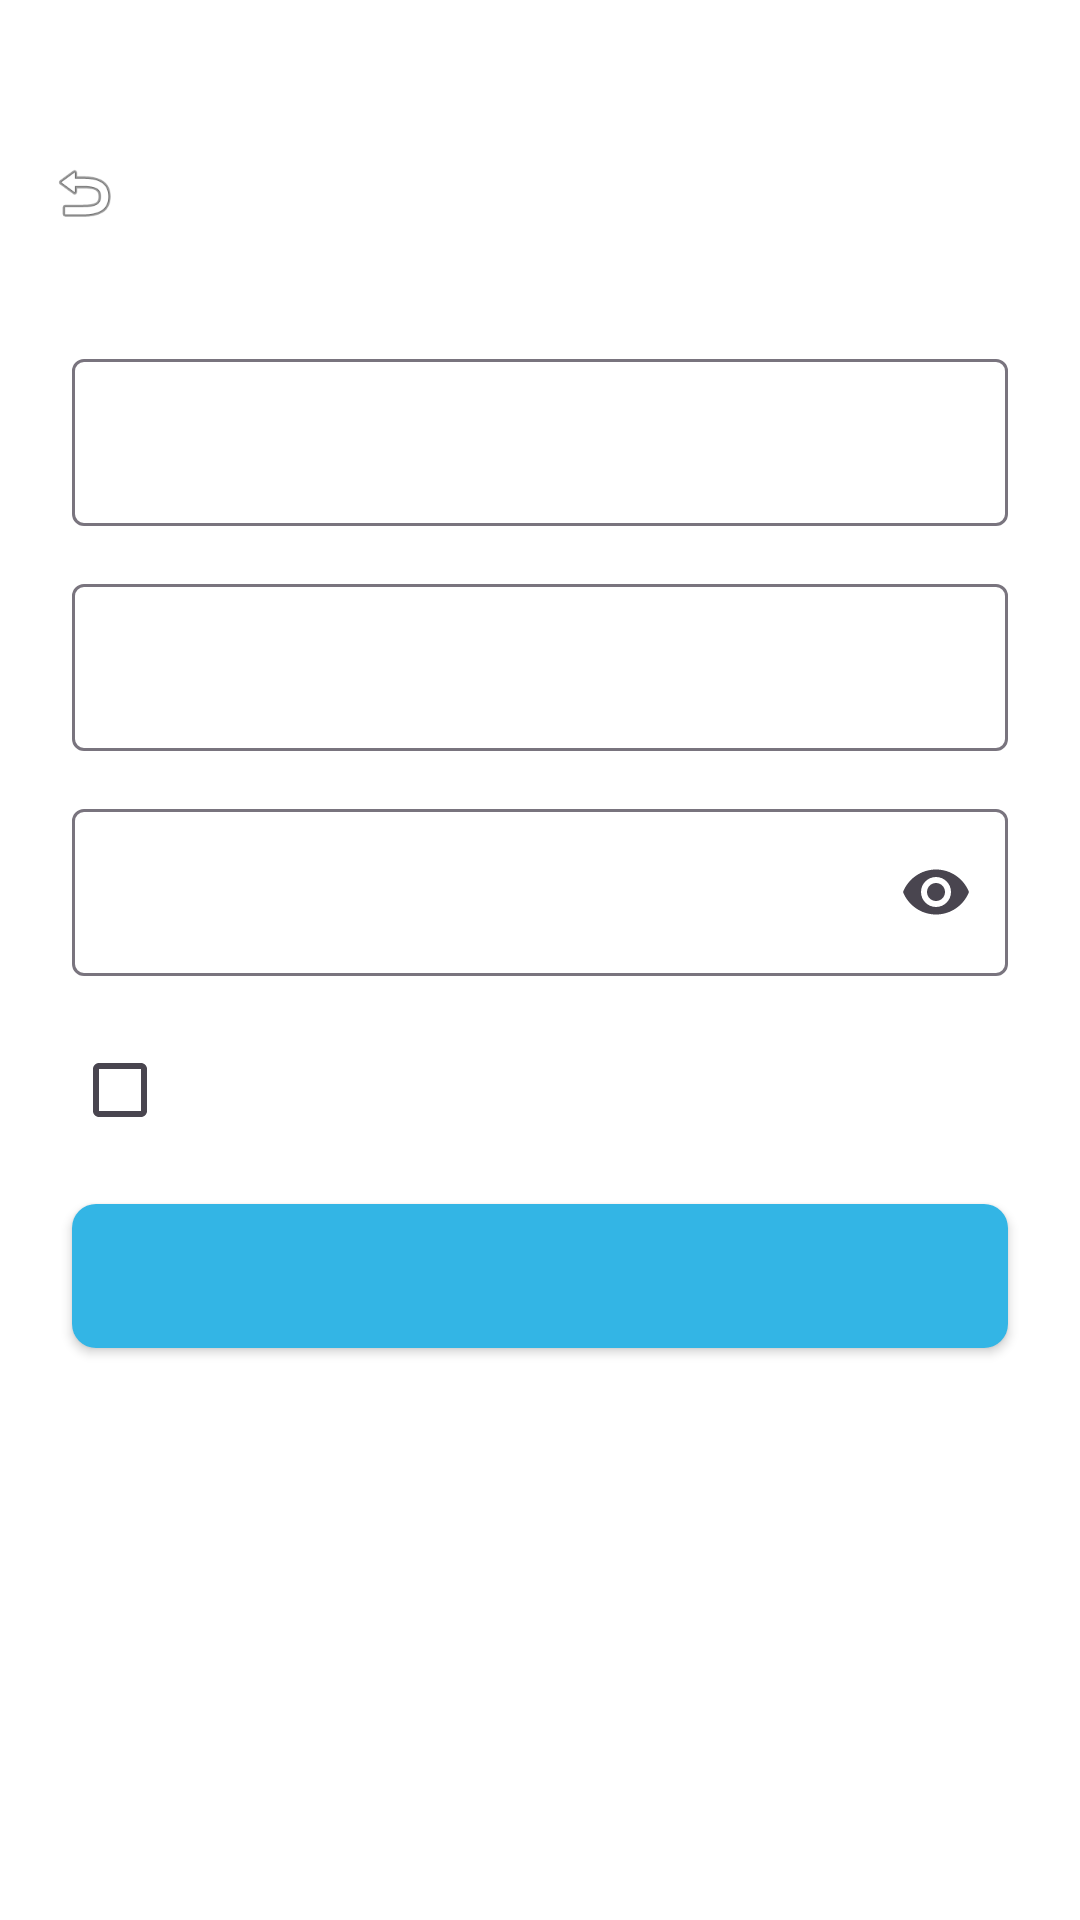

Icon click points for this 1080w x 1920h phone screenshot, format point (x, y):
Back: point (85, 193)
